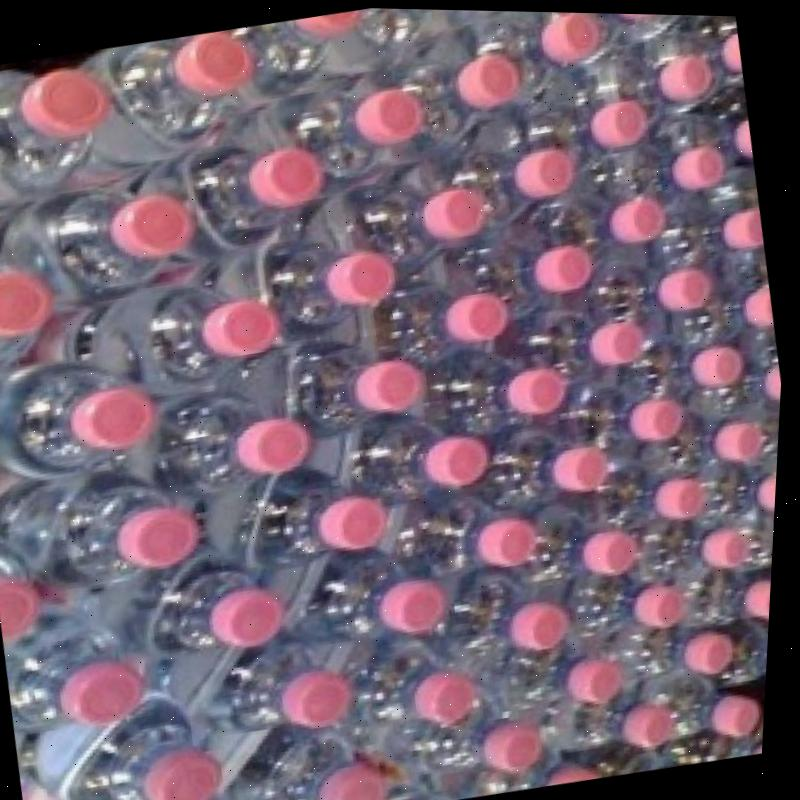botella: (57, 21, 271, 181), (149, 114, 344, 274), (205, 454, 411, 595), (108, 535, 295, 688), (36, 462, 210, 617), (128, 377, 322, 507), (243, 325, 441, 452), (0, 346, 163, 496), (32, 165, 195, 312), (31, 685, 239, 800), (107, 271, 289, 399), (242, 222, 408, 360), (201, 619, 363, 757), (4, 609, 155, 757), (286, 58, 442, 201), (379, 251, 529, 395), (471, 398, 641, 523), (0, 47, 118, 223), (531, 658, 691, 787), (389, 481, 553, 606), (292, 541, 461, 659), (388, 24, 529, 163), (361, 136, 513, 264), (443, 101, 594, 222), (356, 629, 501, 751), (435, 567, 587, 680), (358, 393, 498, 514), (391, 688, 555, 789), (512, 288, 656, 402), (224, 715, 403, 800), (484, 198, 609, 315), (502, 496, 654, 591), (553, 162, 681, 270), (475, 8, 610, 108), (632, 491, 769, 588), (610, 598, 754, 689), (238, 5, 371, 102), (642, 653, 774, 750), (638, 311, 769, 408), (449, 338, 576, 433), (586, 29, 712, 121), (547, 77, 663, 174), (578, 557, 707, 641), (661, 170, 771, 266), (605, 244, 722, 332), (503, 630, 633, 708), (676, 388, 785, 478), (0, 232, 67, 377), (636, 112, 737, 203), (616, 440, 717, 531), (0, 529, 65, 660), (685, 547, 778, 633), (607, 377, 705, 455), (690, 613, 776, 701), (700, 251, 782, 341), (478, 743, 614, 797), (348, 6, 463, 69), (694, 455, 782, 533), (567, 10, 682, 59), (685, 15, 748, 95), (705, 87, 759, 172), (745, 334, 787, 408), (720, 717, 771, 757), (639, 11, 736, 32), (443, 8, 556, 21)
